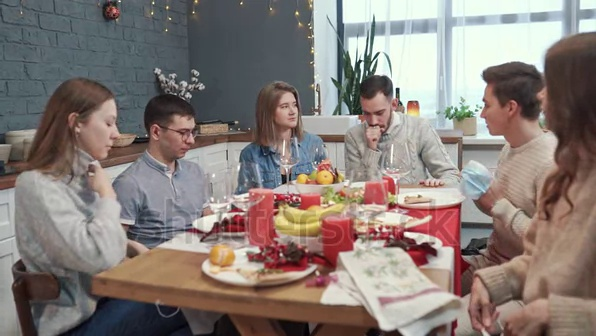No Mask: (45, 78, 129, 169), (474, 65, 547, 144), (139, 99, 205, 167), (353, 75, 407, 143), (255, 87, 311, 139)
